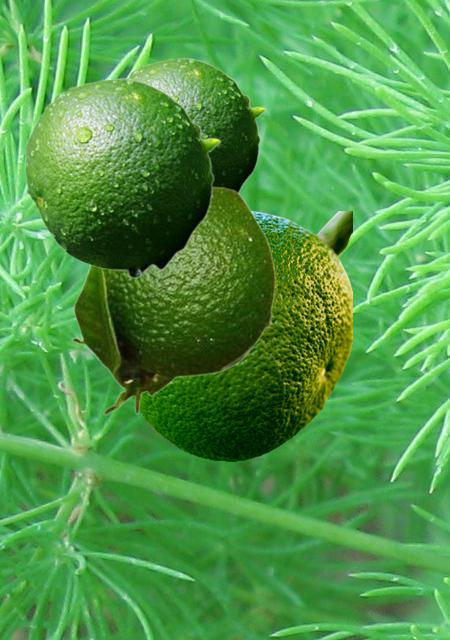dalandan: (131, 211, 351, 460), (70, 186, 275, 415), (24, 77, 220, 278), (127, 57, 265, 192)
